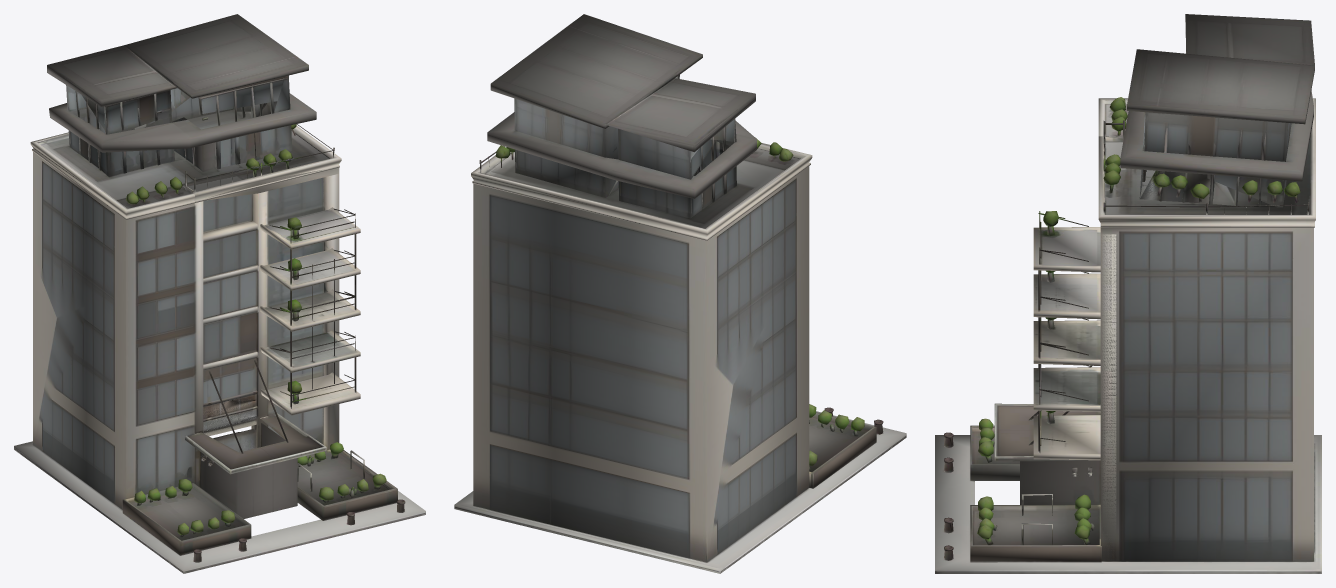
3 renders of one model, left to right at view 1: azimuth 30°, elevation 25°; view 2: azimuth 150°, elevation 25°; view 3: azimuth 270°, elevation 25°, orthographic. The views are drawn at different scales.
Parts seen in each view (by area): view 1: tripo_node_112c3d04-cddd-4289-8e74-409552706714; view 2: tripo_node_112c3d04-cddd-4289-8e74-409552706714; view 3: tripo_node_112c3d04-cddd-4289-8e74-409552706714.
Part boxes in pixels (<box>): tripo_node_112c3d04-cddd-4289-8e74-409552706714: <box>14,14,425,573</box>; tripo_node_112c3d04-cddd-4289-8e74-409552706714: <box>454,14,906,573</box>; tripo_node_112c3d04-cddd-4289-8e74-409552706714: <box>935,14,1321,573</box>.
Bounding box in the file's own units: 0.6387 × 0.998 × 0.7754.
1 material, 1 textured.
